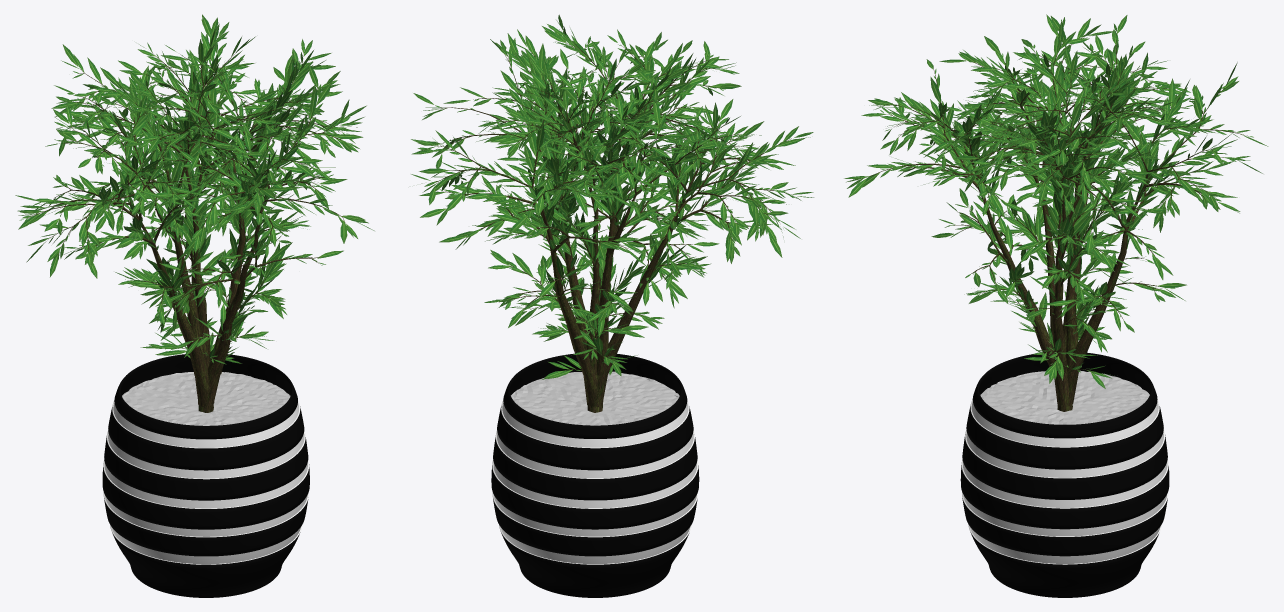
The picture shows the model from 3 angles, left to right: view 1: azimuth 30°, elevation 25°; view 2: azimuth 150°, elevation 25°; view 3: azimuth 270°, elevation 25°; orthographic projection.
Parts seen in each view (by area): view 1: leaves.001, Cylinder.002, tree.003, Cylinder.006; view 2: leaves.001, Cylinder.002, tree.003, Cylinder.006; view 3: leaves.001, Cylinder.002, tree.003, Cylinder.006.
Part boxes in pixels (x1,y1,x2,y2): leaves.001: [15, 14, 374, 364]; Cylinder.002: [102, 354, 309, 597]; tree.003: [26, 49, 345, 412]; Cylinder.006: [122, 372, 290, 425]; leaves.001: [411, 14, 814, 379]; Cylinder.002: [491, 353, 699, 597]; tree.003: [435, 32, 792, 412]; Cylinder.006: [511, 371, 679, 425]; leaves.001: [844, 14, 1268, 388]; Cylinder.002: [960, 352, 1169, 597]; tree.003: [869, 33, 1244, 411]; Cylinder.006: [980, 370, 1149, 424].
Bounding box in the file's own units: 419 × 577 × 430.
